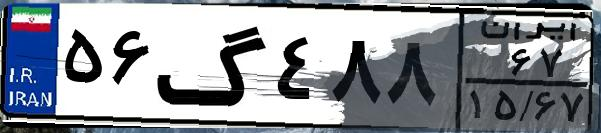1: (470, 70, 495, 125)
4: (270, 28, 330, 110)
5: (57, 26, 110, 100), (495, 70, 520, 125)
6: (110, 28, 156, 98), (508, 27, 537, 80), (535, 70, 560, 125)
7: (560, 70, 590, 125), (537, 27, 568, 80)
8: (385, 28, 445, 110), (330, 28, 385, 110)
گ: (156, 12, 270, 120)
